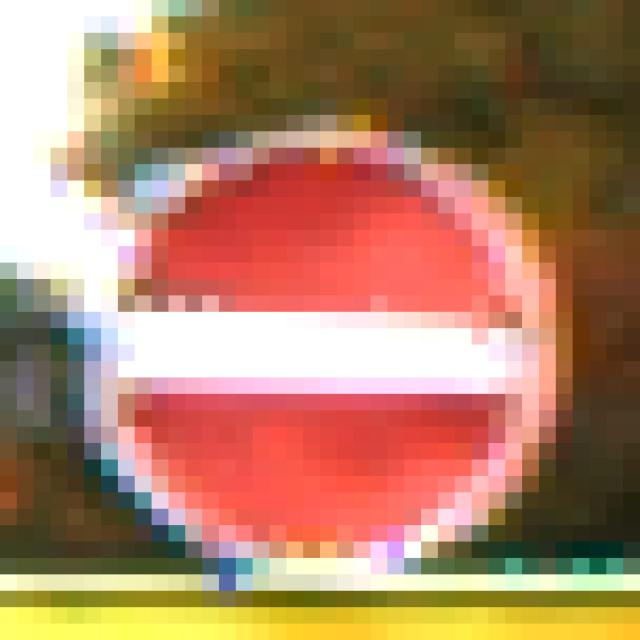No Entry: (85, 99, 540, 559)
